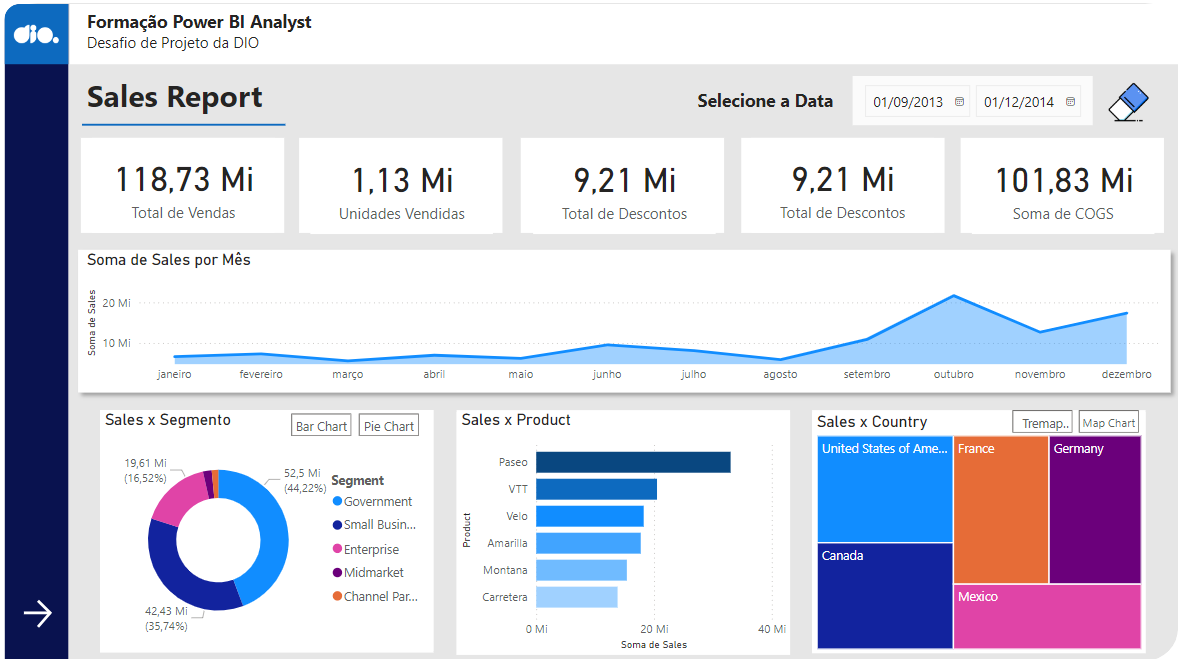

The dashboard page shown, as its layout file describes it:
{"tool":"powerbi","page":{"name":"Página 1","canvas":[1280,720],"ordinal":0},"visuals":[{"type":"shape","box":[13.3,18.3,1251.7,701.7],"z":0},{"type":"shape","box":[13.7,19.2,68.6,701.2],"z":0,"group":"g7"},{"type":"image","title":"clean","box":[1171.4,97.1,80,52.9],"z":0,"group":"g3"},{"type":"shape","box":[95.7,134.3,217.1,27.1],"z":0,"group":"g6"},{"type":"card","fields":{"Values":["Sum(financials. Sales)"]},"box":[107.1,161.4,194.3,101.4],"z":0,"group":"g2"},{"type":"shape","box":[95.3,161.7,216.8,101.5],"z":0,"group":"g1"},{"type":"map","title":"Sales x Country ","fields":{"Size":["Sum(financials. Sales)"],"Category":["financials.Country"]},"box":[874.3,452.9,355.7,257.1],"z":0,"group":"g4"},{"type":"shape","box":[13.7,19.2,68.6,64.5],"z":1000,"group":"g7"},{"type":"shape","box":[82.3,19.2,1182.9,64.5],"z":1000},{"type":"textbox","box":[95.7,88.6,284.3,52.9],"z":1000,"group":"g6"},{"type":"actionButton","box":[1184.2,101.4,55.7,48.6],"z":1000,"group":"g3"},{"type":"shape","box":[328.6,161.7,216.8,101.5],"z":1000,"group":"g1"},{"type":"card","fields":{"Values":["Sum(financials.Units Sold)"]},"box":[340,162.8,194.3,101.4],"z":1000,"group":"g2"},{"type":"donutChart","title":"Sales x Segmento ","fields":{"Y":["Sum(financials. Sales)"],"Category":["financials.Segment"]},"box":[115.7,452.9,355.7,257.1],"z":1000,"group":"g5"},{"type":"treemap","title":"Sales x Country","fields":{"Group":["financials.Country"],"Values":["Sum(financials. Sales)"]},"box":[874.3,454.3,355.7,257.1],"z":1000,"group":"g4"},{"type":"actionButton","title":"Botão - tremap","box":[1087.4,452,64.3,24.3],"z":1500,"group":"g4"},{"type":"actionButton","title":"Botão - bar","box":[319.7,456.9,64.3,24.3],"z":1500,"group":"g5"},{"type":"textbox","box":[96.1,19.2,432.2,59],"z":2000},{"type":"image","title":"logo dio","box":[18.5,19.6,58.6,64.3],"z":2000,"group":"g7"},{"type":"slicer","fields":{"Values":["financials.Date"]},"box":[917.1,95.7,255.7,52.9],"z":2000,"group":"g3"},{"type":"shape","box":[564.6,161.7,216.8,101.5],"z":2000,"group":"g1"},{"type":"card","fields":{"Values":["Sum(financials.Discounts)"]},"box":[577.1,162.8,194.3,101.4],"z":2000,"group":"g2"},{"type":"actionButton","title":"Botão - map","box":[1158.9,452,64.3,24.3],"z":2000,"group":"g4"},{"type":"actionButton","title":"Botão - pie","box":[391.1,456.9,64.3,24.3],"z":2000,"group":"g5"},{"type":"textbox","box":[747.1,102.8,170,41.4],"z":3000,"group":"g3"},{"type":"group","id":"g1","title":"Cartões","box":[95.3,161.4,1155.4,102.9],"z":3000},{"type":"card","fields":{"Values":["Sum(financials.Discounts)"]},"box":[810,161.4,194.3,101.4],"z":3000,"group":"g2"},{"type":"shape","box":[1033.9,161.7,216.8,101.5],"z":3000,"group":"g1"},{"type":"shape","box":[799.2,161.7,216.8,101.5],"z":4000,"group":"g1"},{"type":"card","fields":{"Values":["Sum(financials.COGS)"]},"box":[1045.7,162.8,194.3,101.4],"z":4000,"group":"g2"},{"type":"shape","box":[82.9,272.9,1182.9,170],"z":4000},{"type":"group","id":"g2","title":"valores","box":[107.1,161.4,1132.9,102.9],"z":5000,"group":"g1"},{"type":"shape","box":[115.7,452.9,355.7,258.6],"z":5000},{"type":"shape","box":[495.7,454.3,355.7,258.6],"z":6000},{"type":"shape","box":[874.3,452.9,355.7,258.6],"z":7000},{"type":"clusteredBarChart","title":"Sales x Product","fields":{"Y":["Sum(financials. Sales)"],"Category":["financials.Product"]},"box":[495.7,452.9,355.7,260],"z":8000},{"type":"stackedAreaChart","fields":{"Y":["Sum(financials. Sales)"],"Category":["financials.Date.Variation.Hierarquia de datas.Mês"]},"box":[95.7,281.4,1155.7,150],"z":9000},{"type":"group","id":"g3","title":"Filtro por Data","box":[747.1,95.7,504.3,54.3],"z":10000},{"type":"group","id":"g4","title":"sales x country","box":[874.3,452,355.7,259.4],"z":11000},{"type":"group","id":"g5","title":"sales x segment","box":[115.7,452.9,355.7,257.1],"z":12000},{"type":"group","id":"g6","title":"tile report","box":[95.7,88.6,284.3,72.9],"z":13000},{"type":"group","id":"g7","title":"lateral","box":[13.7,19.2,68.6,701.2],"z":14000},{"type":"actionButton","box":[27.1,648.6,50,40],"z":15000}]}

Visuals, with their boxes in screenshot pixels (x1, y1, x2, y2), scaled from the page's 1280x720 canvas onto the 1179x659 screenshot:
shape: <box>12,17,1165,658</box>
shape: <box>13,18,76,658</box>
"clean" image: <box>1079,89,1153,137</box>
shape: <box>88,123,288,148</box>
card - Sum(financials. Sales): <box>99,148,278,241</box>
shape: <box>88,148,287,241</box>
"Sales x Country " map: <box>805,415,1133,650</box>
shape: <box>13,18,76,77</box>
shape: <box>76,18,1165,77</box>
textbox: <box>88,81,350,130</box>
actionButton: <box>1091,93,1142,137</box>
shape: <box>303,148,502,241</box>
card - Sum(financials.Units Sold): <box>313,149,492,242</box>
"Sales x Segmento " donutChart: <box>107,415,434,650</box>
"Sales x Country" treemap: <box>805,416,1133,651</box>
"Botão - tremap" actionButton: <box>1002,414,1061,436</box>
"Botão - bar" actionButton: <box>294,418,354,440</box>
textbox: <box>89,18,487,72</box>
"logo dio" image: <box>17,18,71,77</box>
slicer - financials.Date: <box>845,88,1080,136</box>
shape: <box>520,148,720,241</box>
card - Sum(financials.Discounts): <box>532,149,711,242</box>
"Botão - map" actionButton: <box>1067,414,1127,436</box>
"Botão - pie" actionButton: <box>360,418,419,440</box>
textbox: <box>688,94,845,132</box>
"Cartões" group: <box>88,148,1152,242</box>
card - Sum(financials.Discounts): <box>746,148,925,241</box>
shape: <box>952,148,1152,241</box>
shape: <box>736,148,936,241</box>
card - Sum(financials.COGS): <box>963,149,1142,242</box>
shape: <box>76,250,1166,405</box>
"valores" group: <box>99,148,1142,242</box>
shape: <box>107,415,434,651</box>
shape: <box>457,416,784,653</box>
shape: <box>805,415,1133,651</box>
"Sales x Product" clusteredBarChart: <box>457,415,784,653</box>
stackedAreaChart - Sum(financials. Sales) x financials.Date.Variation.Hierarquia de datas.Mês: <box>88,258,1153,395</box>
"Filtro por Data" group: <box>688,88,1153,137</box>
"sales x country" group: <box>805,414,1133,651</box>
"sales x segment" group: <box>107,415,434,650</box>
"tile report" group: <box>88,81,350,148</box>
"lateral" group: <box>13,18,76,658</box>
actionButton: <box>25,594,71,630</box>
